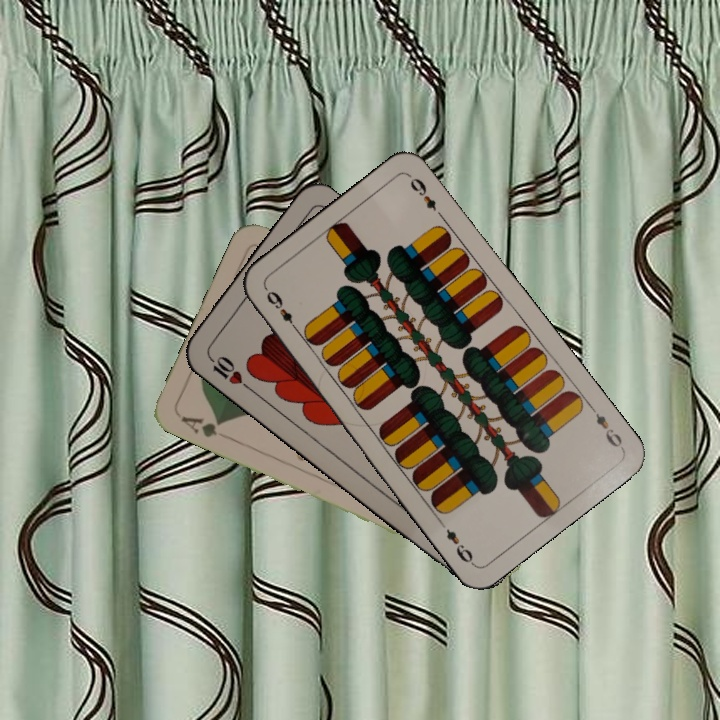E9: (261, 284, 302, 335), (585, 401, 626, 452)
GA: (177, 412, 225, 441)
H10: (203, 349, 253, 392)
